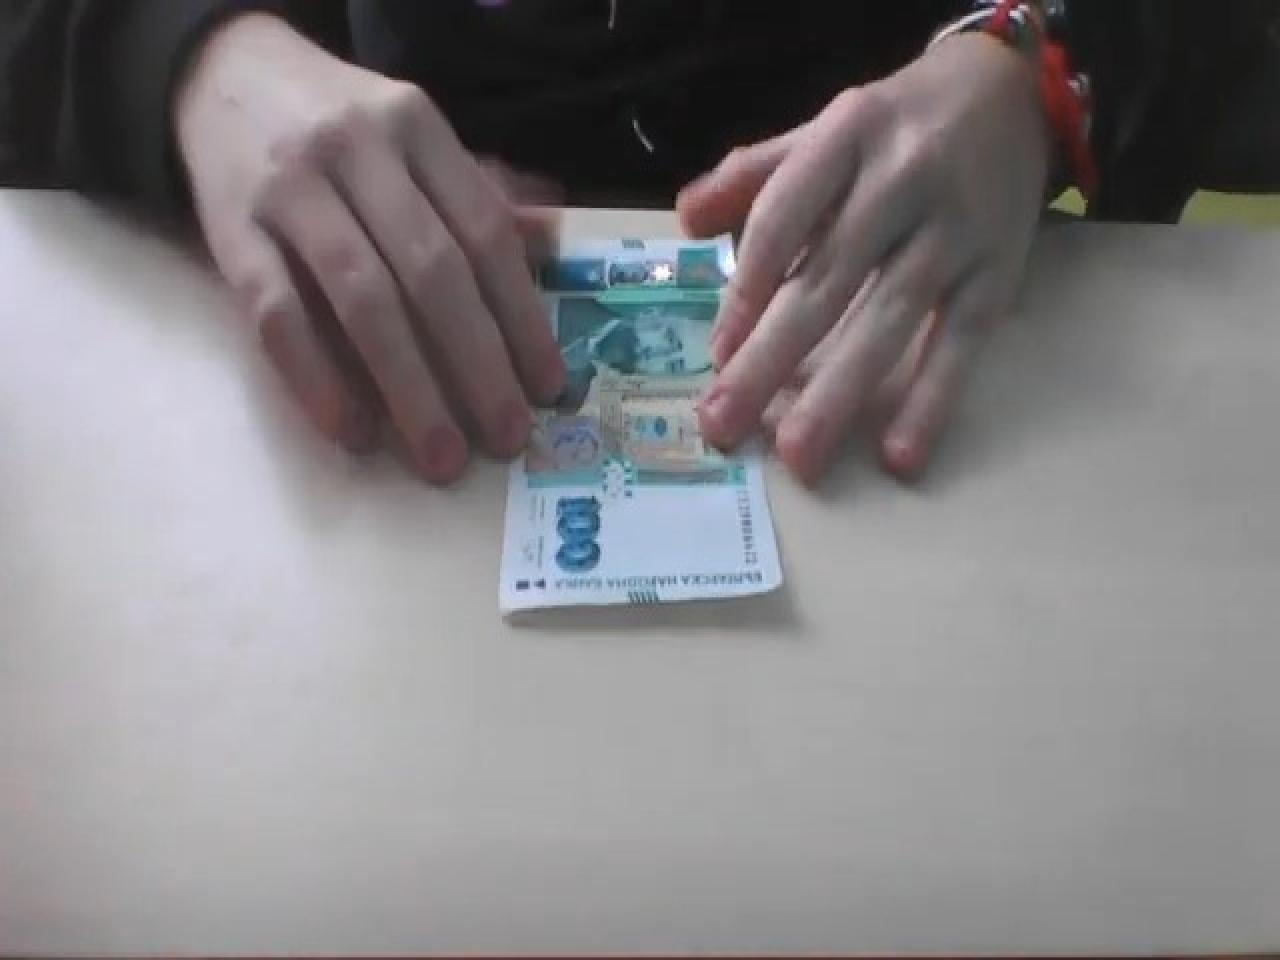100leva: (498, 221, 786, 619)
